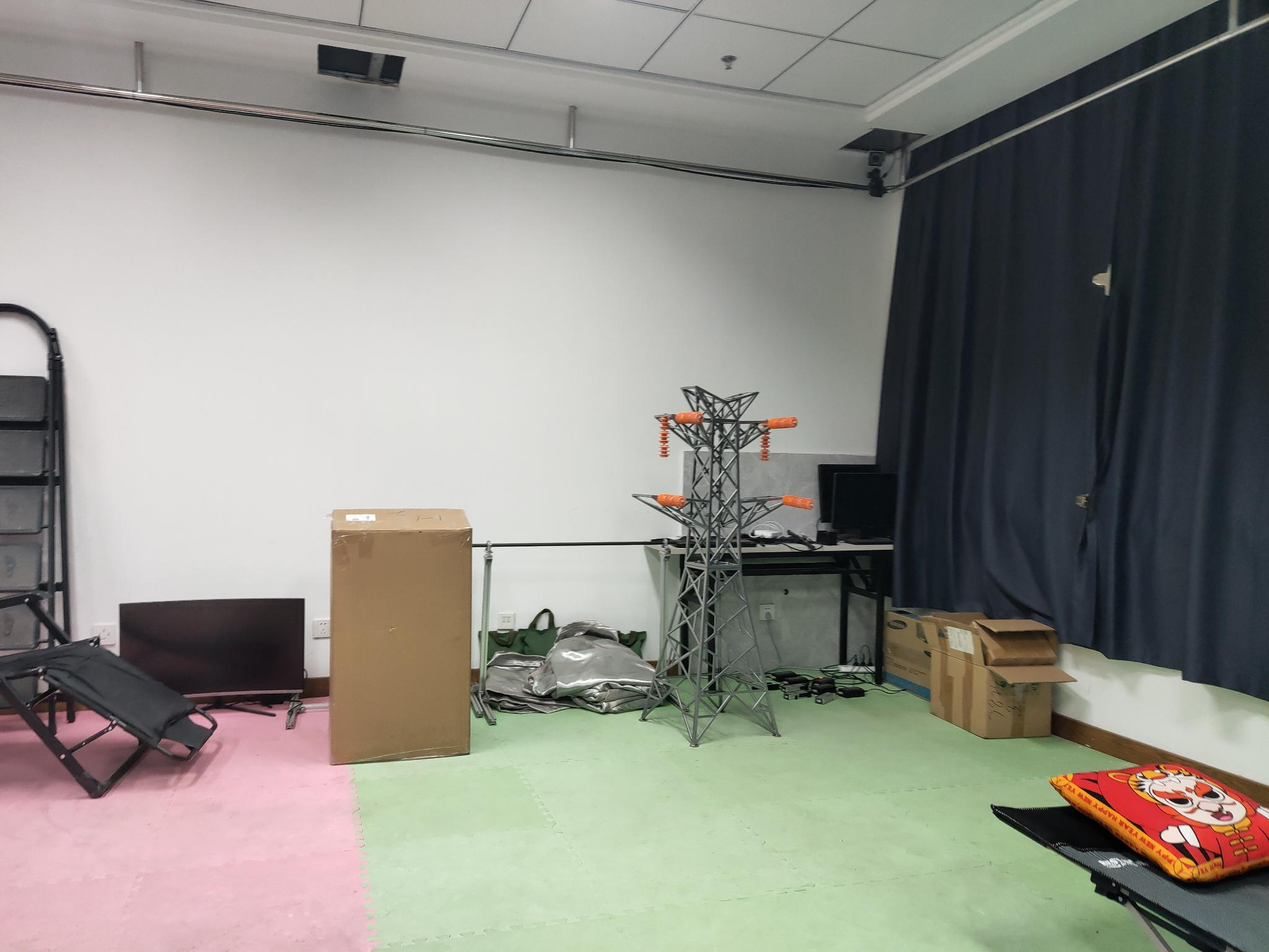tower: (631, 385, 780, 746)
